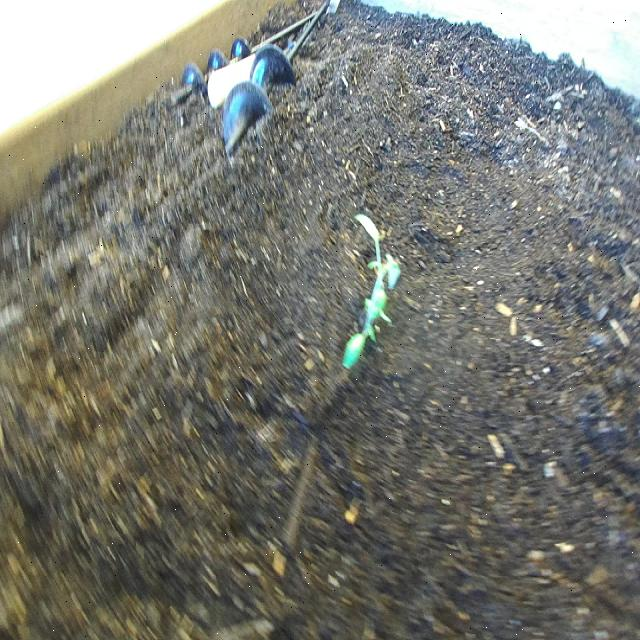Healthy: (335, 205, 405, 373)
